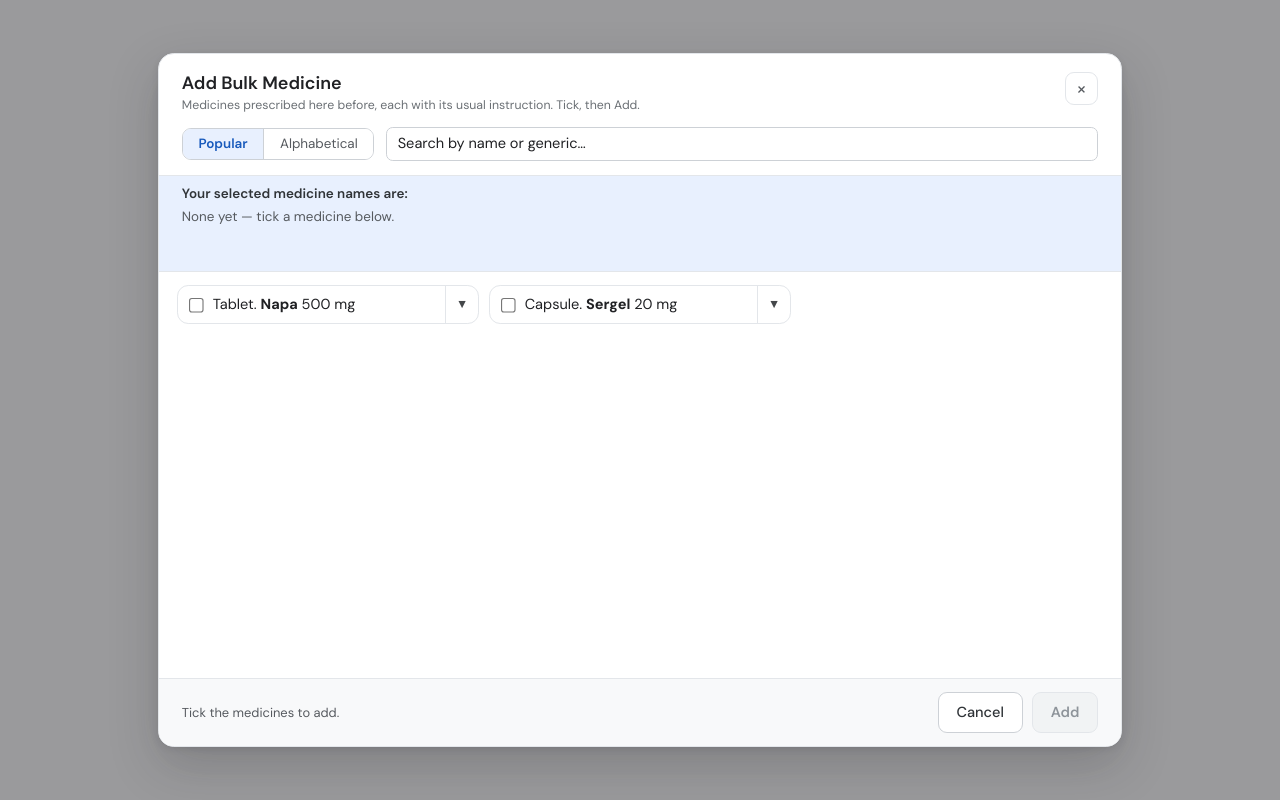
Test case: BulkMedicineModal › ⚕️ with medicines ticked, a press on the veil closes nothing — and says how to close
The width and height of the screenshot is (1280, 800).
Step 1. Click the checkbox labelled "Tablet. Napa 500 mg" → (197, 306), box [190,299,204,313]
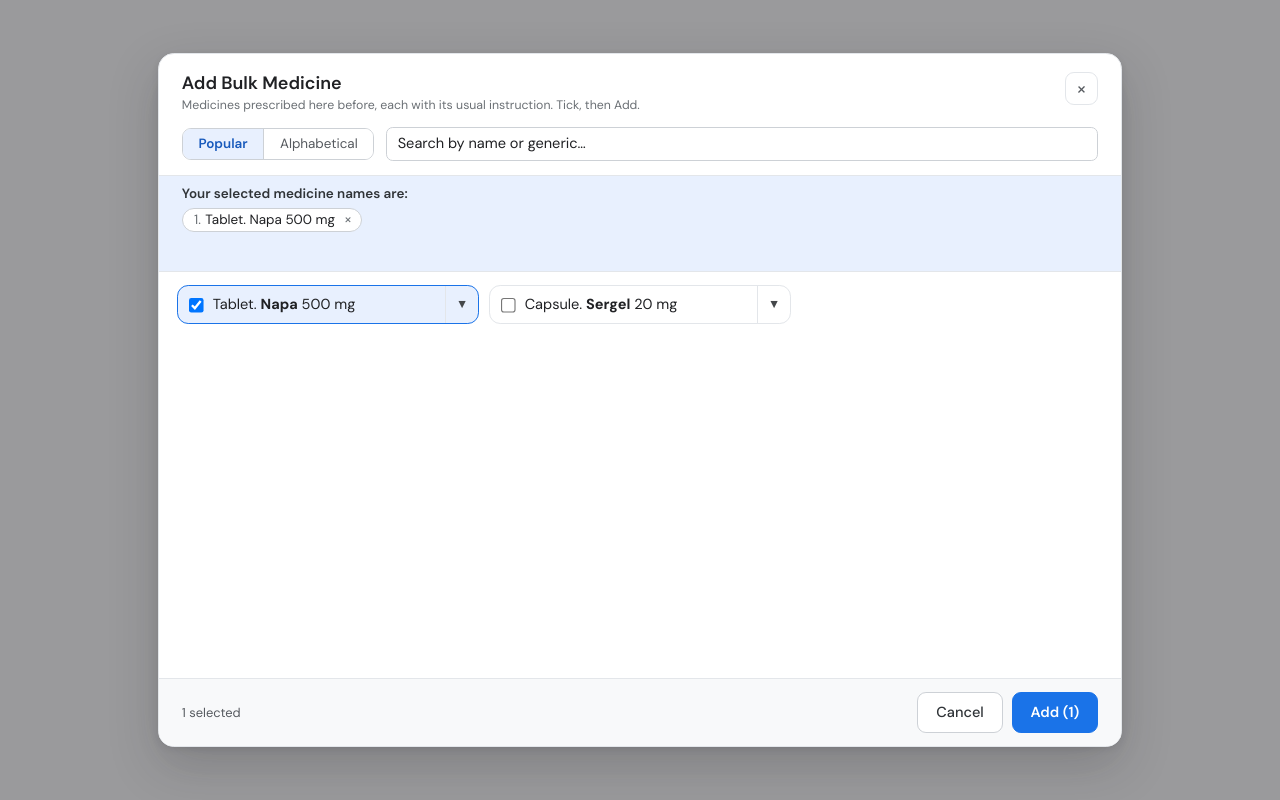
Step 2. Click the checkbox labelled "Capsule. Sergel 20 mg" → (508, 306), box [501,299,515,313]
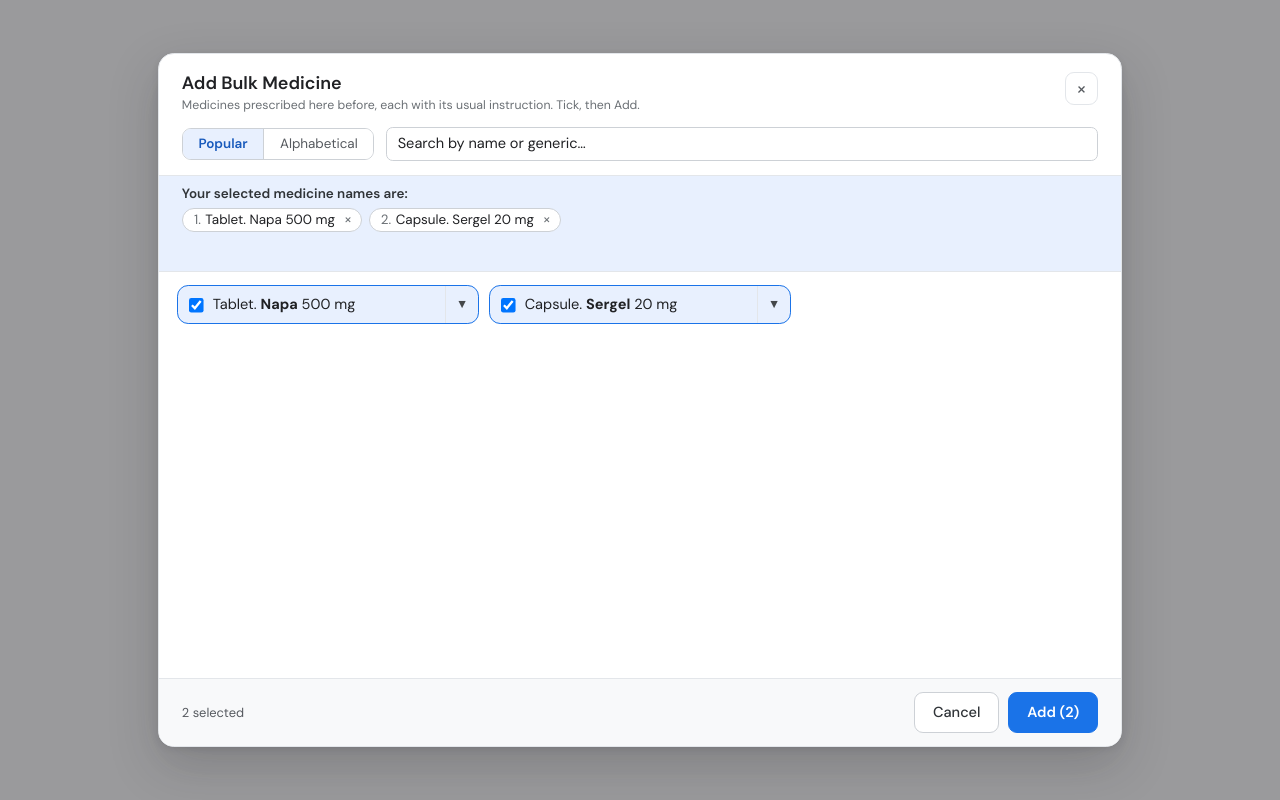
Step 3. Click the element that starts with "Add Bulk Medicine" → (640, 400), box [0,0,1279,799]
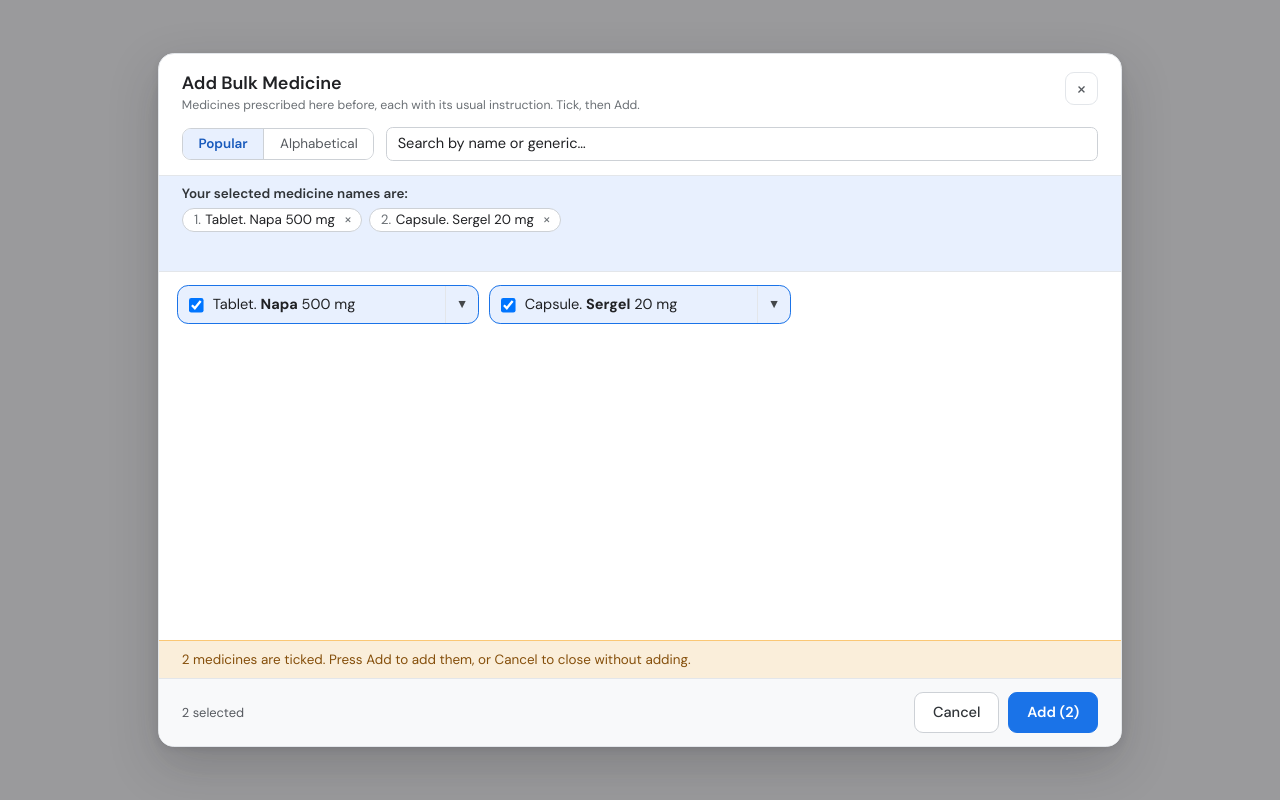
expect the message named "Notice" shows "2 medicines are ticked. Press Add to add them, or Cancel to close without adding.": met, box [182,651,691,668]
